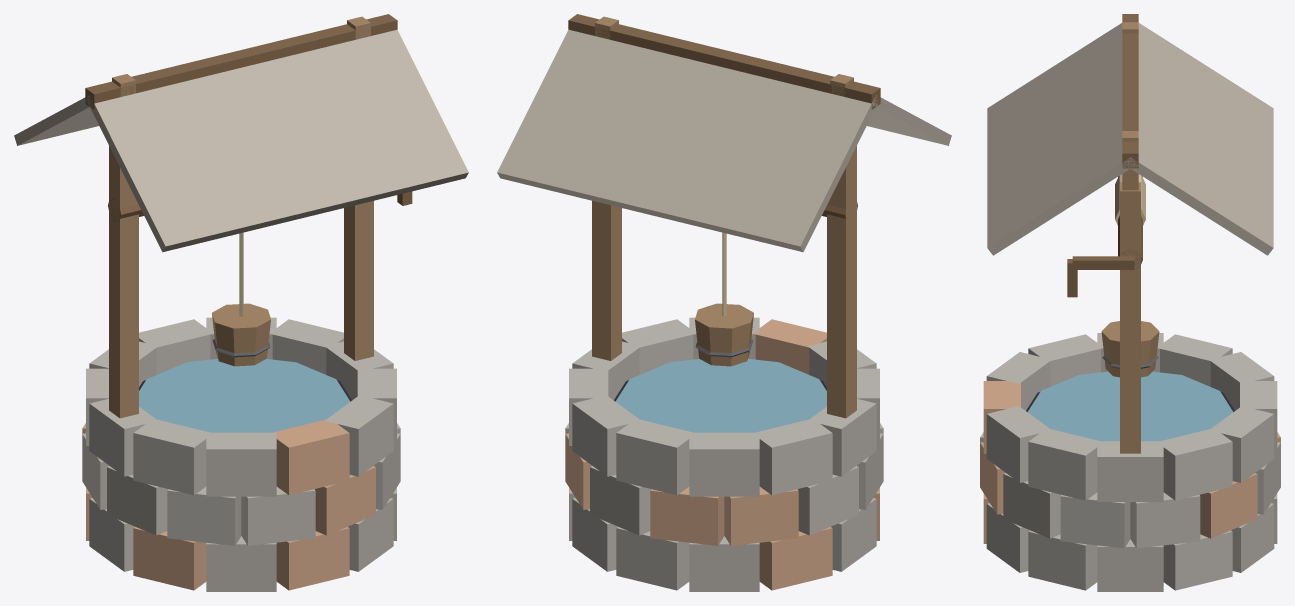
File: SM_Well.glb
3 views of the same model, side by side, from view 1: azimuth 30°, elevation 25°; view 2: azimuth 150°, elevation 25°; view 3: azimuth 270°, elevation 25° (orthographic). The views are drawn at different scales.
Parts seen in each view (by area): view 1: SM_Well; view 2: SM_Well; view 3: SM_Well.
Part boxes in pixels (<box>): SM_Well: <box>14,14,468,591</box>; SM_Well: <box>497,14,951,591</box>; SM_Well: <box>980,14,1280,591</box>.
Size of the model in its own units: 1.6 by 2.41 by 1.45.
